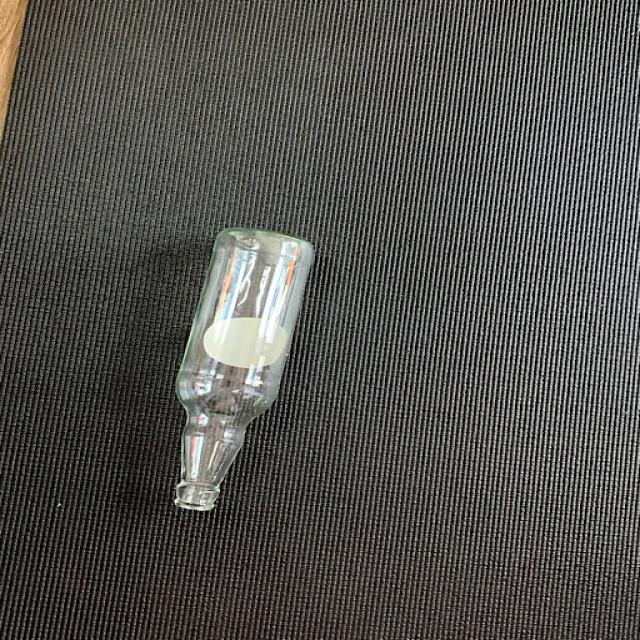litter: (150, 225, 331, 526)
